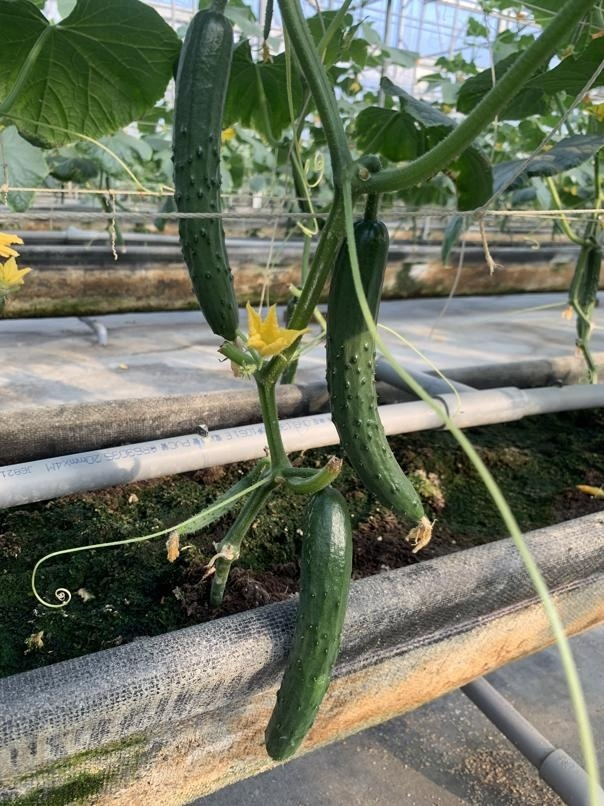mature: (326, 216, 427, 525), (167, 8, 242, 347), (262, 489, 355, 762)
